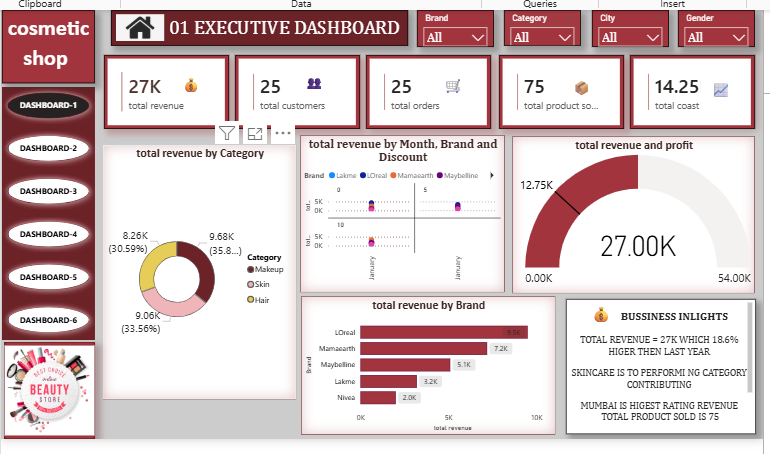

This screenshot's page, from the dashboard's own definition file:
{"tool":"powerbi","page":{"name":"DASHBOARD-1","canvas":[1280,720],"ordinal":0},"visuals":[{"type":"textbox","box":[184.8,0,498.9,60.5],"z":0},{"type":"cardVisual","fields":{"Data":["Customers.total coast"]},"box":[1056.6,75.6,210,124.3],"z":1000},{"type":"cardVisual","fields":{"Data":["Customers.total product sold"]},"box":[836.5,75.6,210,124.3],"z":2000},{"type":"cardVisual","fields":{"Data":["Customers.total orders"]},"box":[613.1,75.6,210,124.3],"z":3000},{"type":"cardVisual","fields":{"Data":["Customers.total revenue"]},"box":[173,75.6,210,124.3],"z":4000},{"type":"cardVisual","fields":{"Data":["Customers.total customers"]},"box":[393.1,75.6,210,124.3],"z":5000},{"type":"lineChart","fields":{"Category":["Sales.SaleDate.Variation.Date Hierarchy.Month"],"Series":["Products.Brand"],"Y":["Customers.total revenue"],"Rows":["Sales.Discount"]},"box":[502.3,210,344.4,263.7],"z":6000},{"type":"clusteredBarChart","fields":{"Category":["Products.Brand"],"Y":["Customers.total revenue"]},"box":[503.9,480.4,426.7,233.5],"z":7000},{"type":"donutChart","fields":{"Y":["Customers.total revenue"],"Category":["Products.Category"]},"box":[171.3,226.8,324.2,426.7],"z":8000},{"type":"gauge","fields":{"Y":["Customers.total revenue"],"TargetValue":["Customers.profit"]},"box":[858.4,211.7,408.2,263.7],"z":9000},{"type":"slicer","fields":{"Values":["Products.Brand"]},"box":[698.8,0,129.3,62.2],"z":10000},{"type":"slicer","fields":{"Values":["Customers.City"]},"box":[992.8,0,129.3,62.2],"z":11000},{"type":"slicer","fields":{"Values":["Products.Category"]},"box":[844.9,0,129.3,60.5],"z":12000},{"type":"group","id":"g1","title":"Group 1","box":[1.7,129.3,156.2,425],"z":13000},{"type":"image","box":[193.2,5,80.6,48.7],"z":14000},{"type":"slicer","fields":{"Values":["Customers.Gender"]},"box":[1137.2,0,129.3,62.2],"z":15000},{"type":"pageNavigator","box":[1.7,129.3,156.2,425],"z":15000,"group":"g1"},{"type":"textbox","box":[1.7,0,156.2,122.6],"z":16000},{"type":"textbox","box":[287.2,104.1,63.8,47],"z":17000},{"type":"textbox","box":[495.5,99.1,62.2,52.1],"z":18000},{"type":"textbox","box":[727.3,105.8,63.8,48.7],"z":19000},{"type":"textbox","box":[954.1,105.8,47,47],"z":20000},{"type":"textbox","box":[1175.9,112.5,60.5,48.7],"z":21000},{"type":"image","box":[5,557.1,152.9,162.9],"z":22000},{"type":"textbox","box":[949.1,485.5,319.2,226.8],"z":23000}]}

Visuals, with their boxes in screenshot pixels (x1, y1, x2, y2):
textbox: x1=108, y1=8, x2=404, y2=44
cardVisual - Customers.total coast: x1=625, y1=53, x2=749, y2=127
cardVisual - Customers.total product sold: x1=494, y1=53, x2=619, y2=127
cardVisual - Customers.total orders: x1=362, y1=53, x2=486, y2=127
cardVisual - Customers.total revenue: x1=101, y1=53, x2=225, y2=127
cardVisual - Customers.total customers: x1=231, y1=53, x2=356, y2=127
lineChart - Sales.SaleDate.Variation.Date Hierarchy.Month x Products.Brand: x1=296, y1=133, x2=500, y2=289
clusteredBarChart - Products.Brand x Customers.total revenue: x1=297, y1=293, x2=550, y2=432
donutChart - Customers.total revenue x Products.Category: x1=100, y1=143, x2=292, y2=396
gauge - Customers.total revenue x Customers.profit: x1=507, y1=134, x2=749, y2=290
slicer - Products.Brand: x1=413, y1=8, x2=489, y2=45
slicer - Customers.City: x1=587, y1=8, x2=664, y2=45
slicer - Products.Category: x1=499, y1=8, x2=576, y2=44
"Group 1" group: x1=0, y1=85, x2=92, y2=337
image: x1=113, y1=11, x2=160, y2=40
slicer - Customers.Gender: x1=673, y1=8, x2=749, y2=45
pageNavigator: x1=0, y1=85, x2=92, y2=337
textbox: x1=0, y1=8, x2=92, y2=81
textbox: x1=168, y1=70, x2=206, y2=98
textbox: x1=292, y1=67, x2=329, y2=98
textbox: x1=429, y1=71, x2=467, y2=100
textbox: x1=564, y1=71, x2=592, y2=99
textbox: x1=696, y1=75, x2=731, y2=104
image: x1=1, y1=339, x2=92, y2=435
textbox: x1=561, y1=296, x2=750, y2=431
